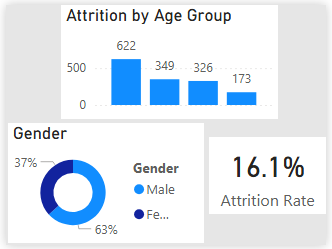

What the dashboard file says about the page in this screenshot:
{"tool":"powerbi","page":{"name":"Tooltip_HR","canvas":[320,240],"ordinal":1},"visuals":[{"type":"donutChart","title":"Gender","fields":{"Category":["emp_data.Gender"],"Y":["CountNonNull(emp_data.EmployeeNumber)"]},"box":[2,118,196,120],"z":0},{"type":"clusteredColumnChart","title":"Attrition by Age Group","fields":{"Category":["emp_data.Age_Group"],"Y":["CountNonNull(emp_data.EmployeeNumber)"]},"box":[55,0,217,114],"z":1000},{"type":"card","fields":{"Values":["emp_data.newAttrition Rate"]},"box":[203,132,117,77],"z":2000}]}

Visuals, with their boxes in screenshot pixels (x1, y1, x2, y2), scaled from the page's 320x240 canvas onto the 332x249 screenshot:
"Gender" donutChart: bbox=(2, 122, 205, 247)
"Attrition by Age Group" clusteredColumnChart: bbox=(57, 0, 282, 118)
card - emp_data.newAttrition Rate: bbox=(211, 137, 331, 217)
